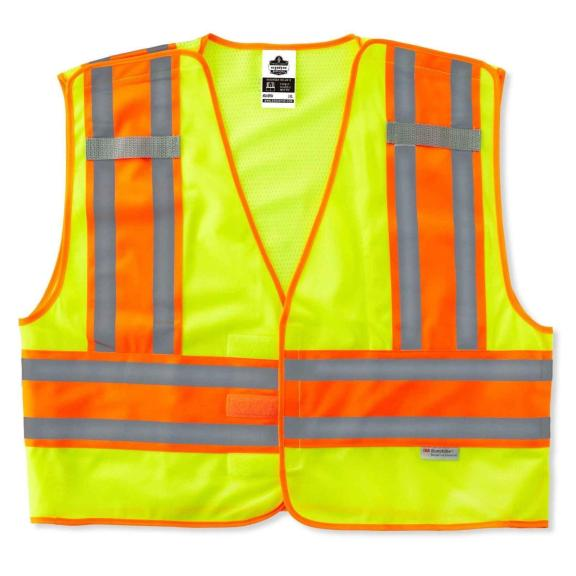safety_vest: (16, 31, 556, 541)
